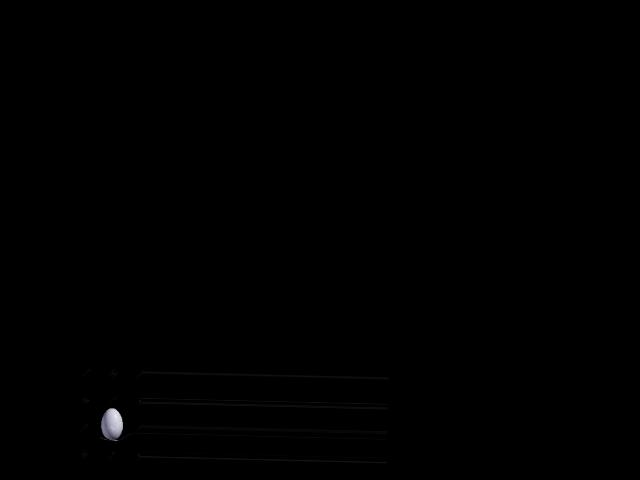egg: (100, 408, 123, 440)
